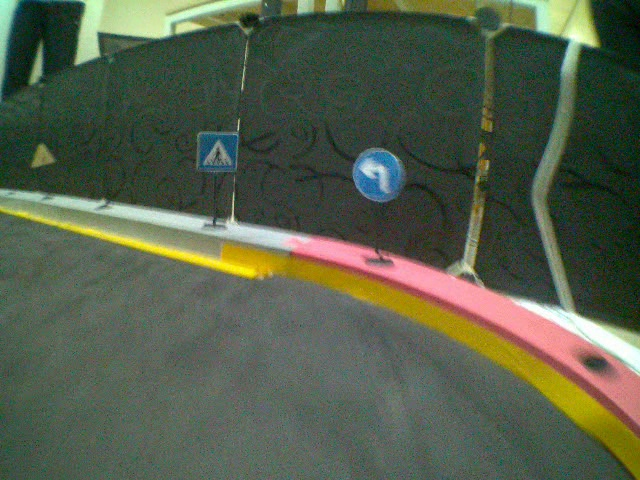crossing: (195, 131, 239, 174)
turn: (353, 147, 403, 202)
